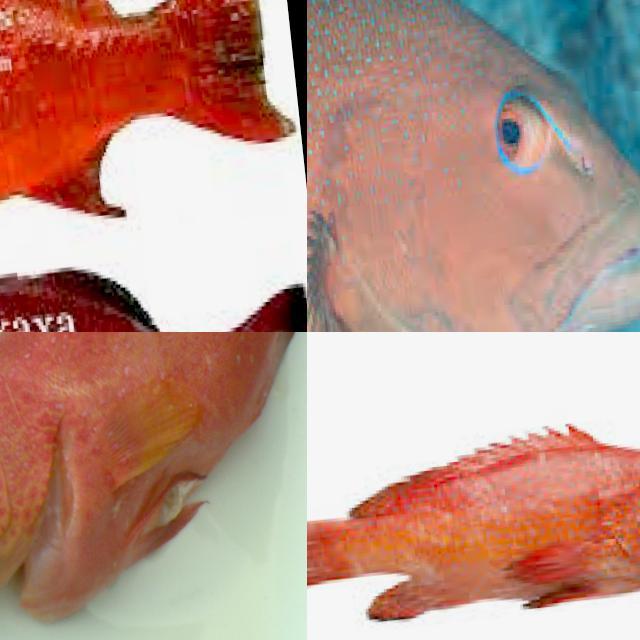Plectropomus-leopardus: (307, 0, 640, 332), (307, 342, 640, 640), (0, 332, 307, 640), (0, 0, 307, 260), (0, 219, 307, 332)
